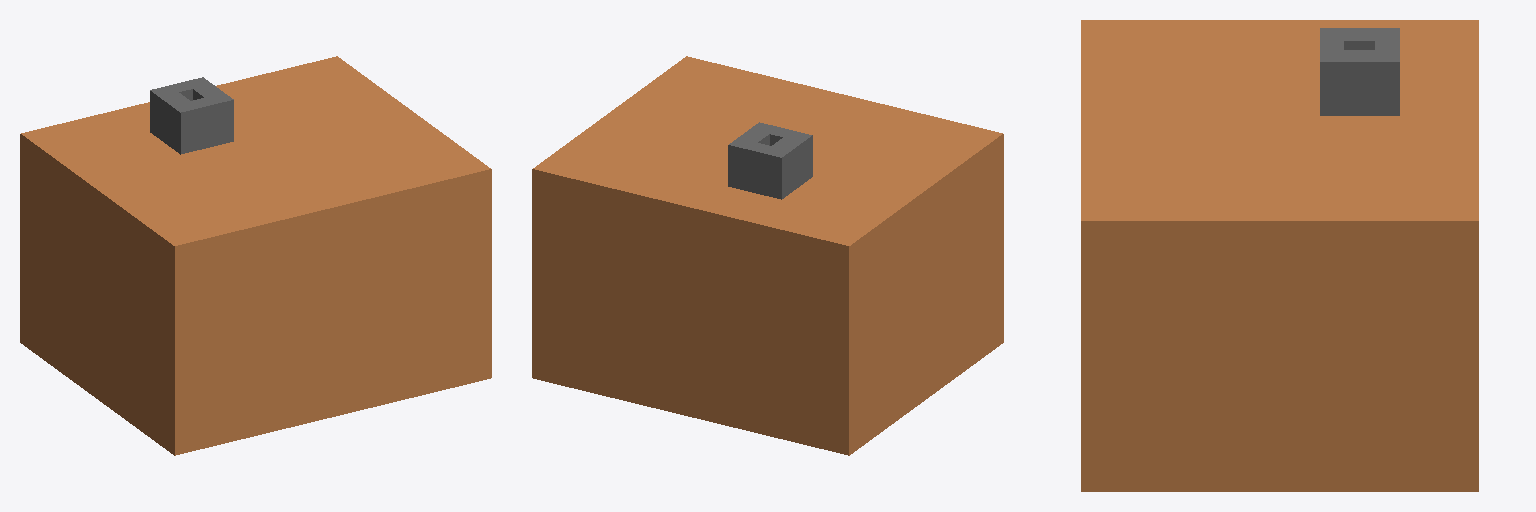
URDF robot description (peg_in_hole_scene_tol0p32mm):
<?xml version="1.0"?>
<robot name="peg_in_hole_scene_tol0p32mm">
  <material name="wood"><color rgba="0.82 0.56 0.35 1.0"/></material>
  <material name="hole_grey"><color rgba="0.4706 0.4706 0.4706 1.0"/></material>
  <link name="box">
    <visual>
      <origin xyz="0.000000 0.000000 0.000000" rpy="0 0 0"/>
      <geometry><box size="0.475000 0.400000 0.300000"/></geometry>
      <material name="wood"/>
    </visual>
    <collision>
      <origin xyz="0.000000 0.000000 0.000000" rpy="0 0 0"/>
      <geometry><box size="0.475000 0.400000 0.300000"/></geometry>
    </collision>
    <visual>
      <origin xyz="-0.050000 0.080000 0.155000" rpy="0 0 0"/>
      <geometry><box size="0.080000 0.080000 0.010000"/></geometry>
      <material name="hole_grey"/>
    </visual>
    <collision>
      <origin xyz="-0.050000 0.080000 0.155000" rpy="0 0 0"/>
      <geometry><box size="0.080000 0.080000 0.010000"/></geometry>
    </collision>
    <visual>
      <origin xyz="-0.024840 0.080000 0.185000" rpy="0 0 0"/>
      <geometry><box size="0.029680 0.080000 0.050000"/></geometry>
      <material name="hole_grey"/>
    </visual>
    <collision>
      <origin xyz="-0.024840 0.080000 0.185000" rpy="0 0 0"/>
      <geometry><box size="0.029680 0.080000 0.050000"/></geometry>
    </collision>
    <visual>
      <origin xyz="-0.075160 0.080000 0.185000" rpy="0 0 0"/>
      <geometry><box size="0.029680 0.080000 0.050000"/></geometry>
      <material name="hole_grey"/>
    </visual>
    <collision>
      <origin xyz="-0.075160 0.080000 0.185000" rpy="0 0 0"/>
      <geometry><box size="0.029680 0.080000 0.050000"/></geometry>
    </collision>
    <visual>
      <origin xyz="-0.050000 0.107660 0.185000" rpy="0 0 0"/>
      <geometry><box size="0.020640 0.024680 0.050000"/></geometry>
      <material name="hole_grey"/>
    </visual>
    <collision>
      <origin xyz="-0.050000 0.107660 0.185000" rpy="0 0 0"/>
      <geometry><box size="0.020640 0.024680 0.050000"/></geometry>
    </collision>
    <visual>
      <origin xyz="-0.050000 0.052340 0.185000" rpy="0 0 0"/>
      <geometry><box size="0.020640 0.024680 0.050000"/></geometry>
      <material name="hole_grey"/>
    </visual>
    <collision>
      <origin xyz="-0.050000 0.052340 0.185000" rpy="0 0 0"/>
      <geometry><box size="0.020640 0.024680 0.050000"/></geometry>
    </collision>
    <inertial>
      <mass value="500"/>
      <friction value="1.0"/>
      <inertia ixx="1000.0" ixy="0.0" ixz="0.0" iyy="1000.0" iyz="0.0" izz="1000.0"/>
    </inertial>
  </link>
</robot>

--- What the picture shows (computed from the rendered views, not written in the file) ---
Views: 3 orthographic renders of the robot side by side, from view 1: azimuth 30°, elevation 25°; view 2: azimuth 150°, elevation 25°; view 3: azimuth 270°, elevation 25°.
Model peg_in_hole_scene_tol0p32mm with 1 links and 0 joints (none), rooted at box, posed all joints at 0.
Visible links, largest first — view 1: box; view 2: box; view 3: box.
Link boxes in pixels (x1=…): box: x1=20, y1=56, x2=491, y2=455; box: x1=532, y1=56, x2=1003, y2=455; box: x1=1081, y1=20, x2=1478, y2=491.
Size in the robot's own frame: 0.475 by 0.4 by 0.36 metres.
Geometry: primitives only (box / cylinder / sphere), no mesh files.
